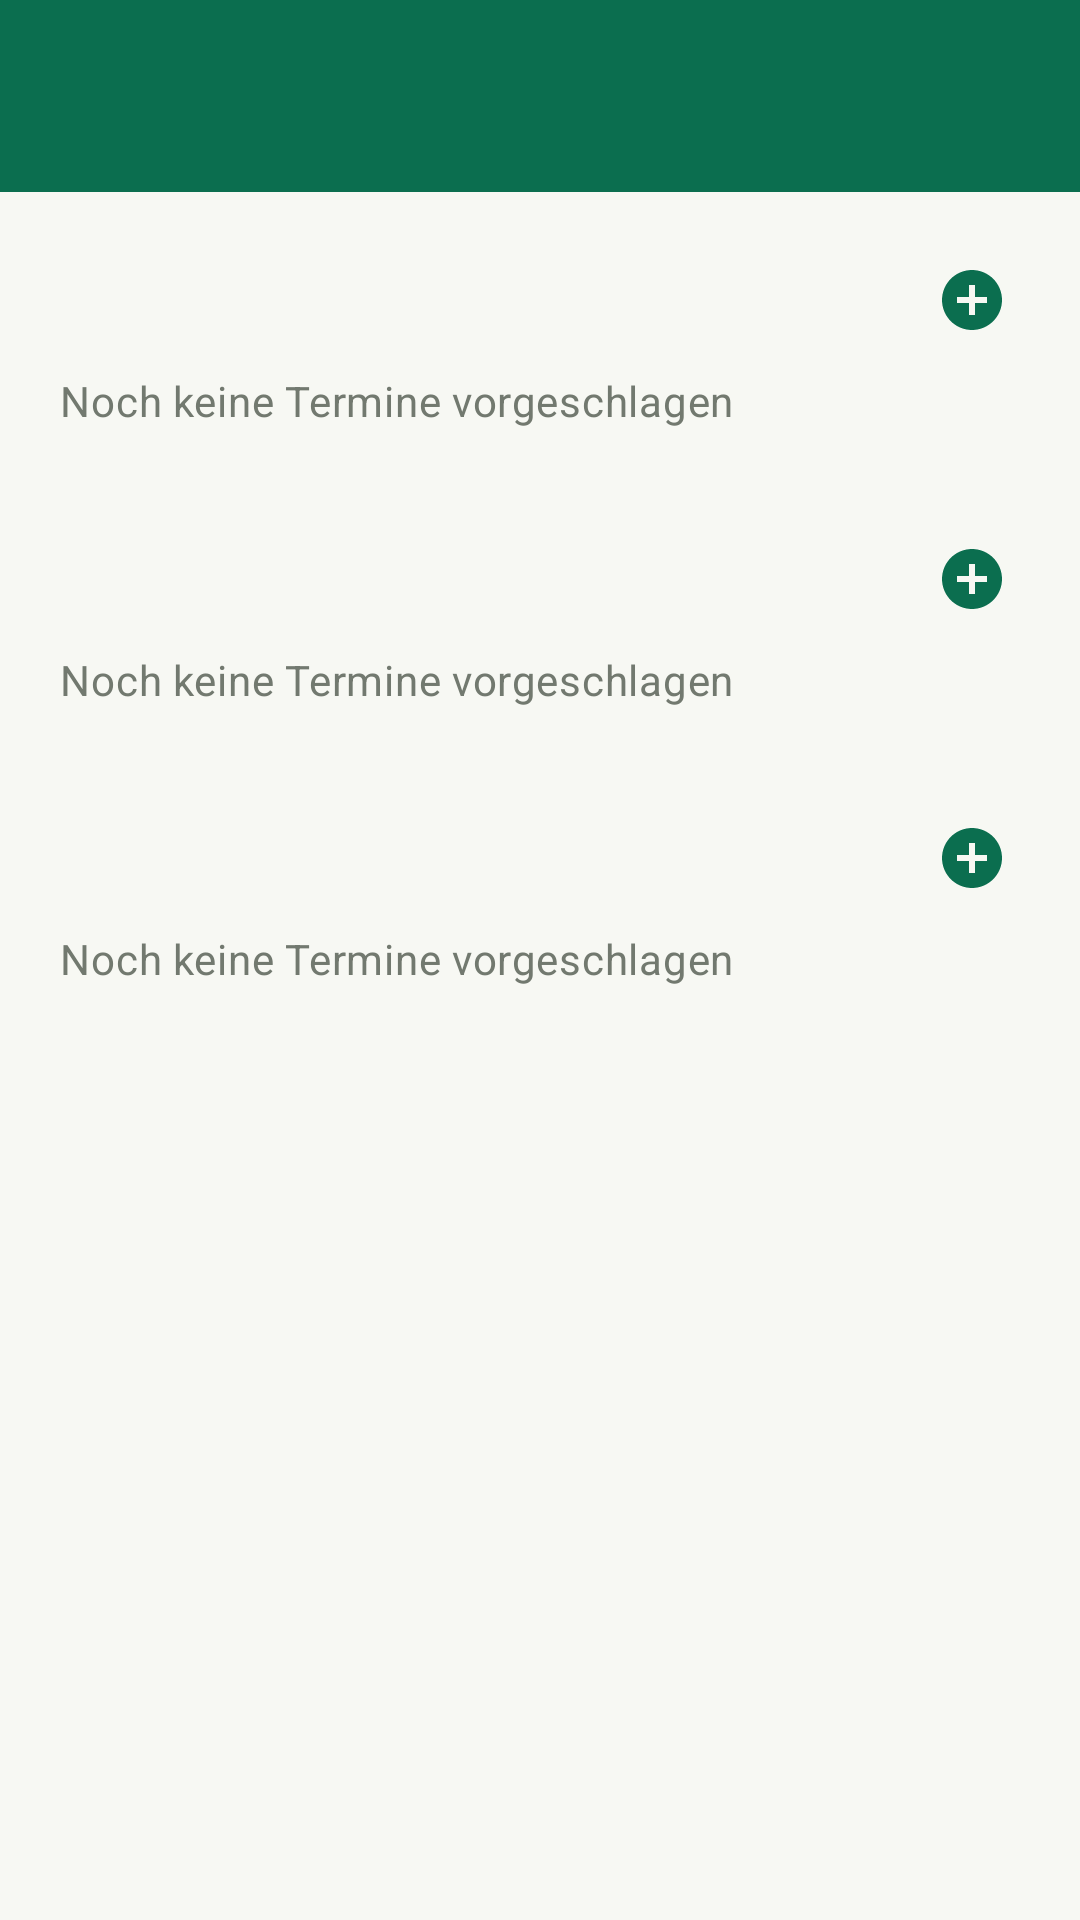

Named icons in this screenshot (1080 × 1920) and their centers, point (x, y):
Hinzufügen: point (972, 300), point (972, 579), point (972, 858)
